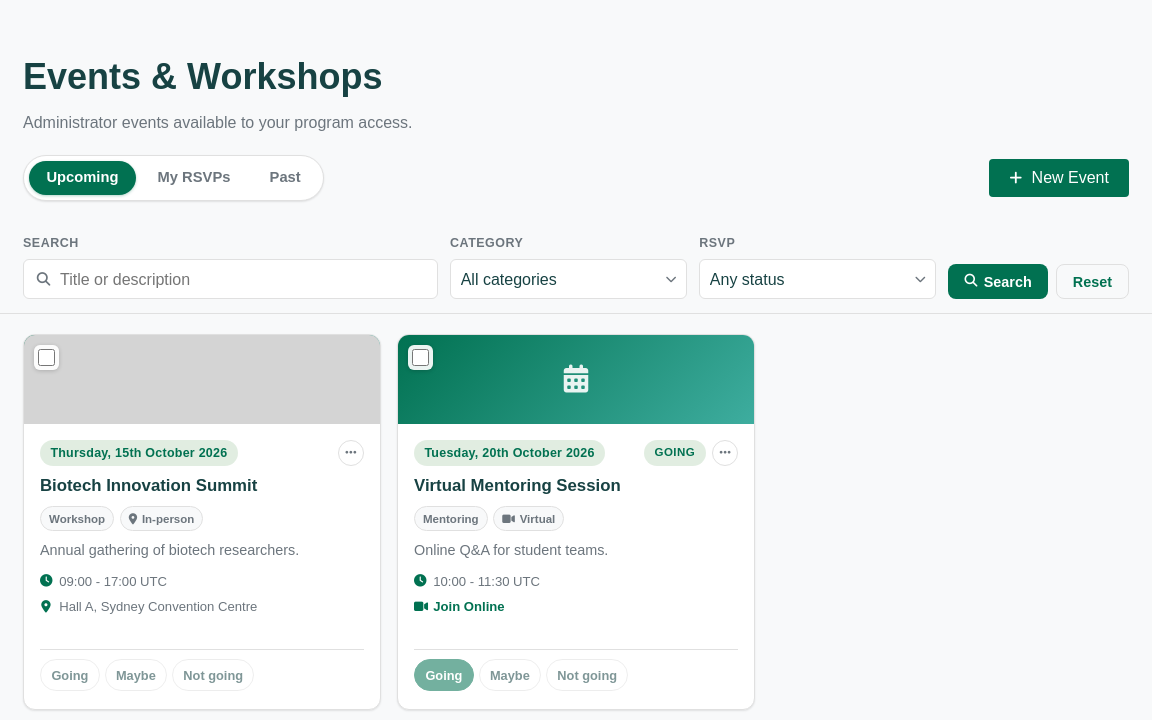
Test: EventsPage - Admin Integration & Role Access › Admin Access View › toggles the More actions dropdown on event card
Click the 1st button with class "event-card-more-btn" at [351, 453], box [338,440,364,466]
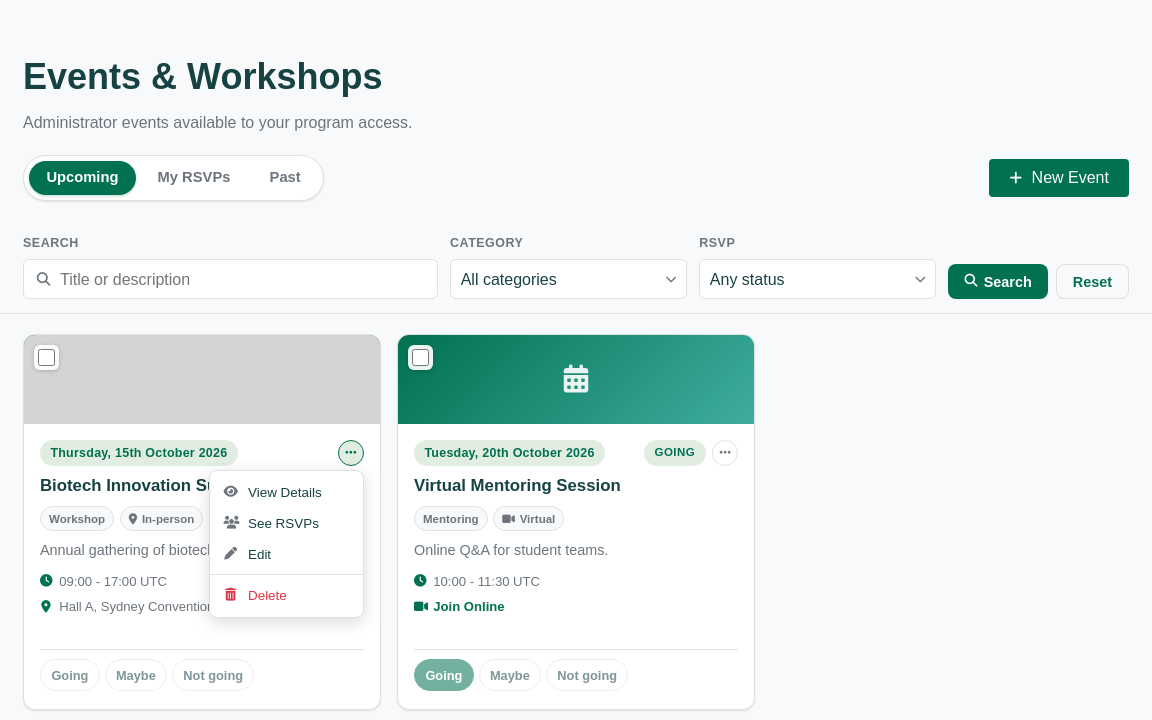
Now the menu with class "event-card-dropdown" is shown, box [209,470,364,618]
Now the menu with class "event-card-dropdown" shows "View Details", box [210,477,363,508]
Now the menu with class "event-card-dropdown" shows "See RSVPs", box [210,508,363,539]
